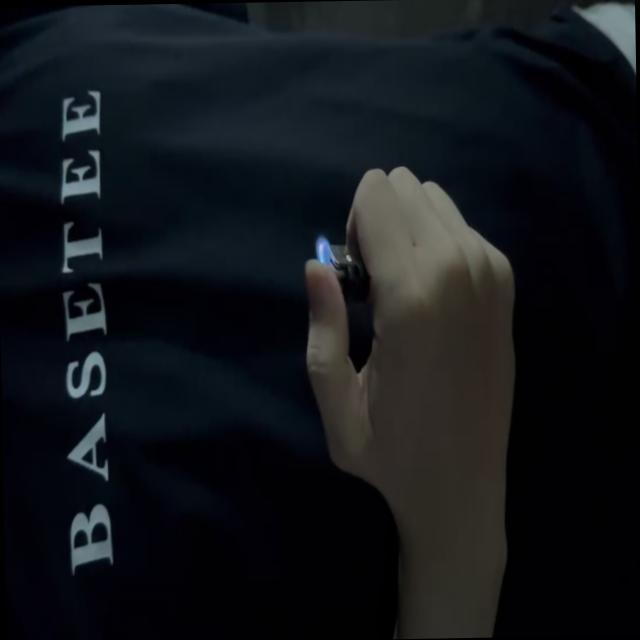Fire: (317, 237, 333, 263)
